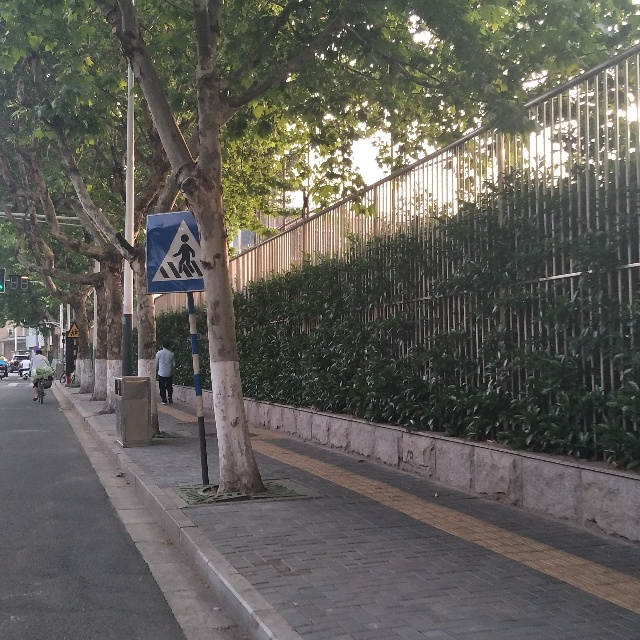crosswalk: (149, 214, 215, 287)
